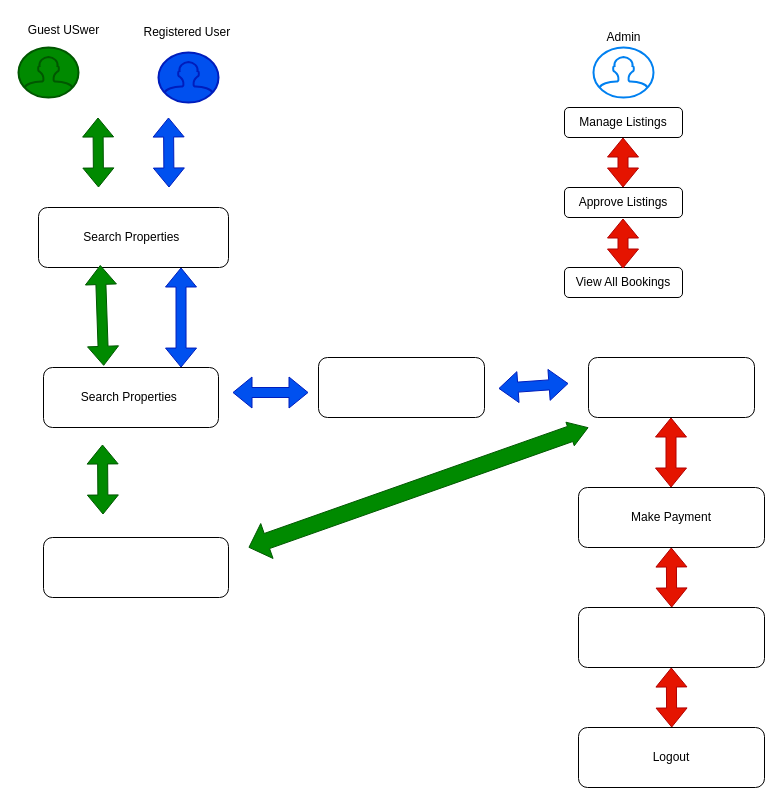
Image size: 782x805. Some labels were removed from this diagram. Each missing label, with the centre of its shape:
"Book Property" belongs at point 671,387.
"Cancel Booking" belongs at point 671,637.
"Create Account" belongs at point 135,567.
"Login" belongs at point 401,387.
